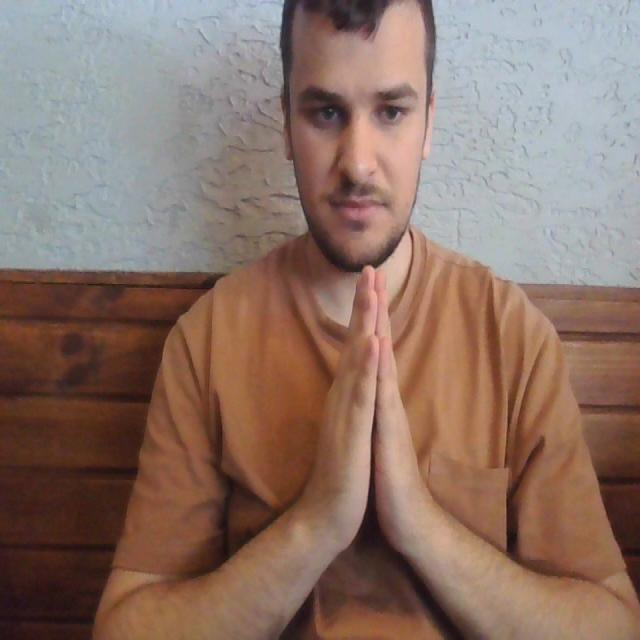Ozur-Dilemek: (310, 258, 427, 574)
